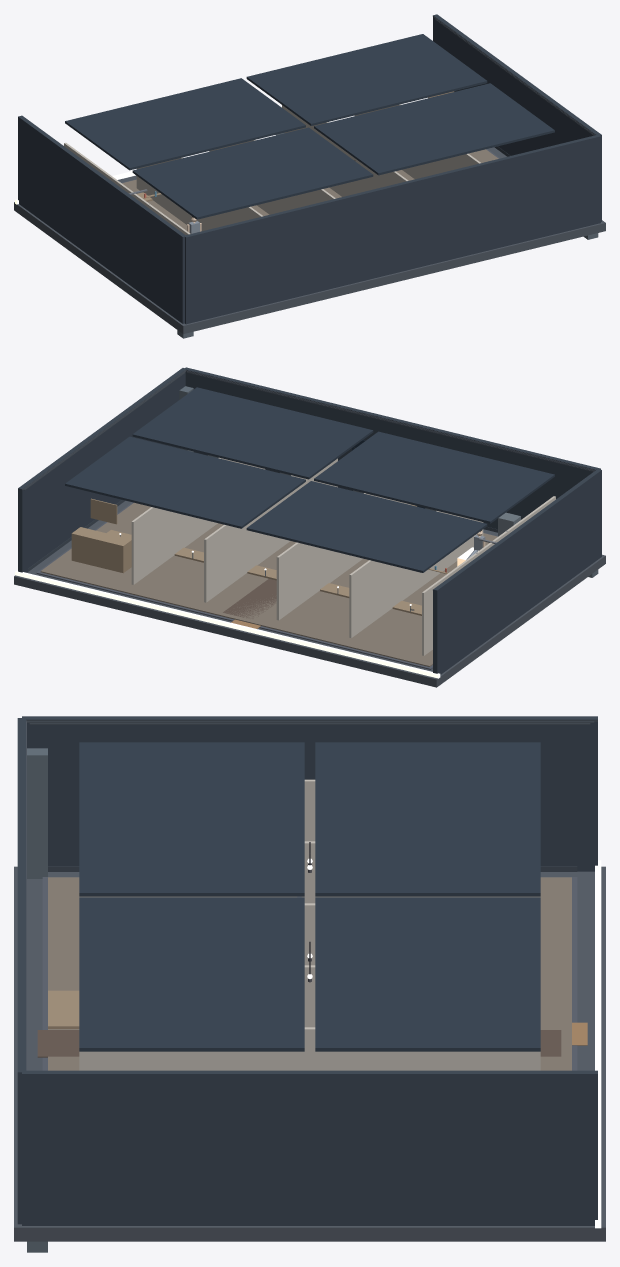
Rendered from floor-residences-c.glb.
3 views of the same model, one above another, from view 1: azimuth 30°, elevation 25°; view 2: azimuth 150°, elevation 25°; view 3: azimuth 270°, elevation 25° (orthographic). The views are drawn at different scales.
Visible parts, largest first — view 1: WallBack_shelter, WallL_shelter, Coffer_-1_-1_shelter, Coffer_-1_1_shelter, Coffer_1_1_shelter, Coffer_1_-1_shelter, Slab_shelter, WallR_shelter, Partition_1, Partition_3, Partition_4, Partition_2 (+2 smaller); view 2: WallL_shelter, UnitFloor, Coffer_-1_-1_shelter, Coffer_1_-1_shelter, Coffer_-1_1_shelter, Coffer_1_1_shelter, WallR_shelter, WallBack_shelter, Slab_shelter, Partition_1, Partition_3, Partition_2 (+10 smaller); view 3: WallR_shelter, Coffer_-1_-1_shelter, Coffer_-1_1_shelter, Coffer_1_-1_shelter, Coffer_1_1_shelter, WallL_shelter, Slab_shelter, UnitFloor, Partition_4, WallBack_shelter, Post_shelter_-1, Reveal_shelter (+10 smaller).
Boxes of the visible parts, x1,y1,x2,y2 form: WallBack_shelter: (184, 134, 600, 324); WallL_shelter: (18, 115, 185, 323); Coffer_-1_-1_shelter: (132, 127, 373, 219); Coffer_-1_1_shelter: (65, 78, 305, 170); Coffer_1_1_shelter: (246, 34, 487, 125); Coffer_1_-1_shelter: (314, 83, 554, 175); Slab_shelter: (14, 147, 605, 334); WallR_shelter: (433, 14, 601, 221); Partition_1: (136, 157, 262, 231); Partition_3: (282, 105, 408, 196); Partition_4: (354, 104, 480, 179); Partition_2: (209, 139, 335, 214); WallL_shelter: (433, 469, 601, 674); UnitFloor: (40, 502, 497, 666); Coffer_-1_-1_shelter: (314, 431, 554, 523); Coffer_1_-1_shelter: (132, 387, 373, 479); Coffer_-1_1_shelter: (246, 481, 487, 572); Coffer_1_1_shelter: (65, 436, 305, 528); WallR_shelter: (18, 368, 185, 572); WallBack_shelter: (184, 367, 600, 529); Slab_shelter: (14, 500, 605, 687); Partition_1: (349, 511, 483, 638); Partition_3: (204, 458, 337, 602); Partition_2: (276, 493, 410, 620); WallR_shelter: (22, 1070, 597, 1225); Coffer_-1_-1_shelter: (79, 742, 304, 896); Coffer_-1_1_shelter: (315, 742, 540, 896); Coffer_1_-1_shelter: (79, 897, 304, 1051); Coffer_1_1_shelter: (315, 897, 540, 1051); WallL_shelter: (22, 716, 597, 871); Slab_shelter: (14, 866, 605, 1241); UnitFloor: (48, 877, 571, 1070); Partition_4: (79, 1027, 540, 1070); WallBack_shelter: (17, 718, 25, 1224); Post_shelter_-1: (27, 748, 47, 878); Reveal_shelter: (595, 860, 601, 1228).
Bounding box in the file's own units: 16.32 × 3.8 × 11.3.
